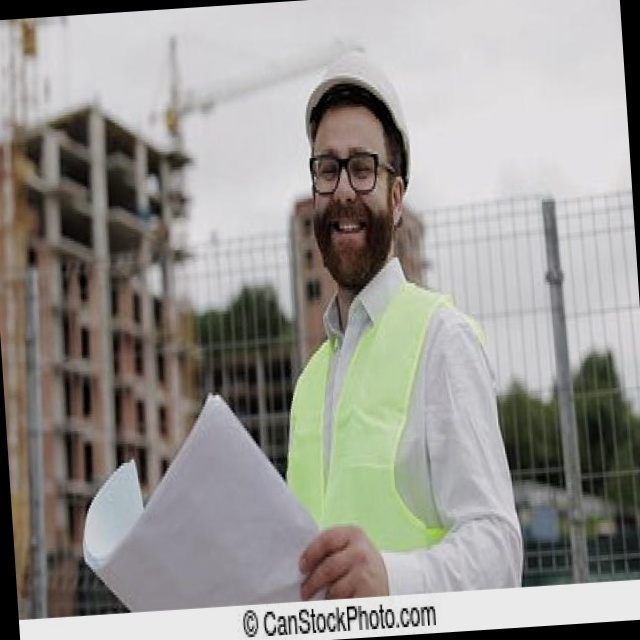goggles: (316, 150, 406, 199)
helmet: (322, 54, 428, 143)
vest: (276, 277, 437, 557)
